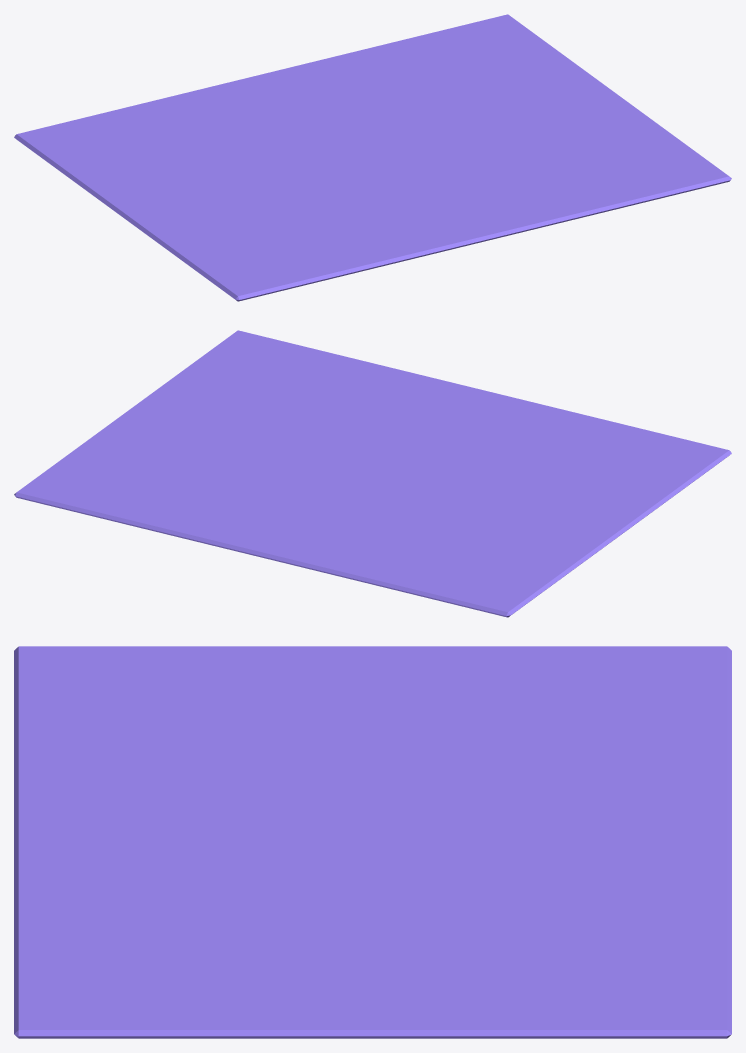
3 views of the same model, one above another, from view 1: azimuth 30°, elevation 25°; view 2: azimuth 150°, elevation 25°; view 3: azimuth 270°, elevation 25° (orthographic). The views are drawn at different scales.
Visible parts, largest first — view 1: Rug; view 2: Rug; view 3: Rug.
Part boxes in pixels (x1=…): Rug: x1=14, y1=14, x2=731, y2=301; Rug: x1=14, y1=330, x2=731, y2=617; Rug: x1=14, y1=646, x2=731, y2=1038.
Size of the model in its own units: 230 by 2.4 by 180.
